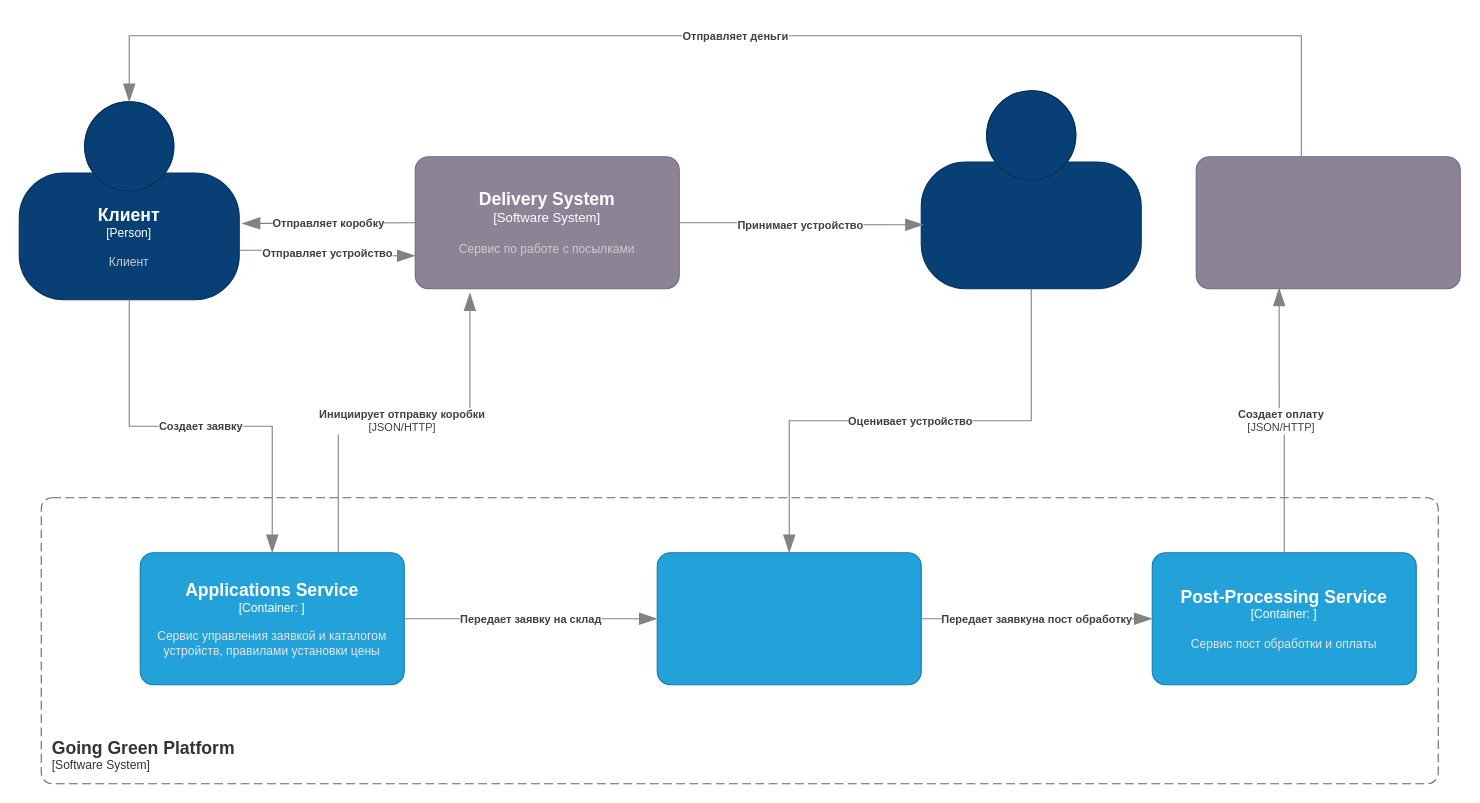
Image size: 1480x803. Some labels were removed from this diagram. Each missing label, with the centre of its shape:
"Internal Operations Service [Container: ] Сервис управления заявкой на складе" belongs at (x=788, y=618).
"Payment System [Software System] Платежный провайдер" belongs at (x=1327, y=222).
"Сотрудник склада [Person] Сотрудник склада" belongs at (x=1030, y=189).
